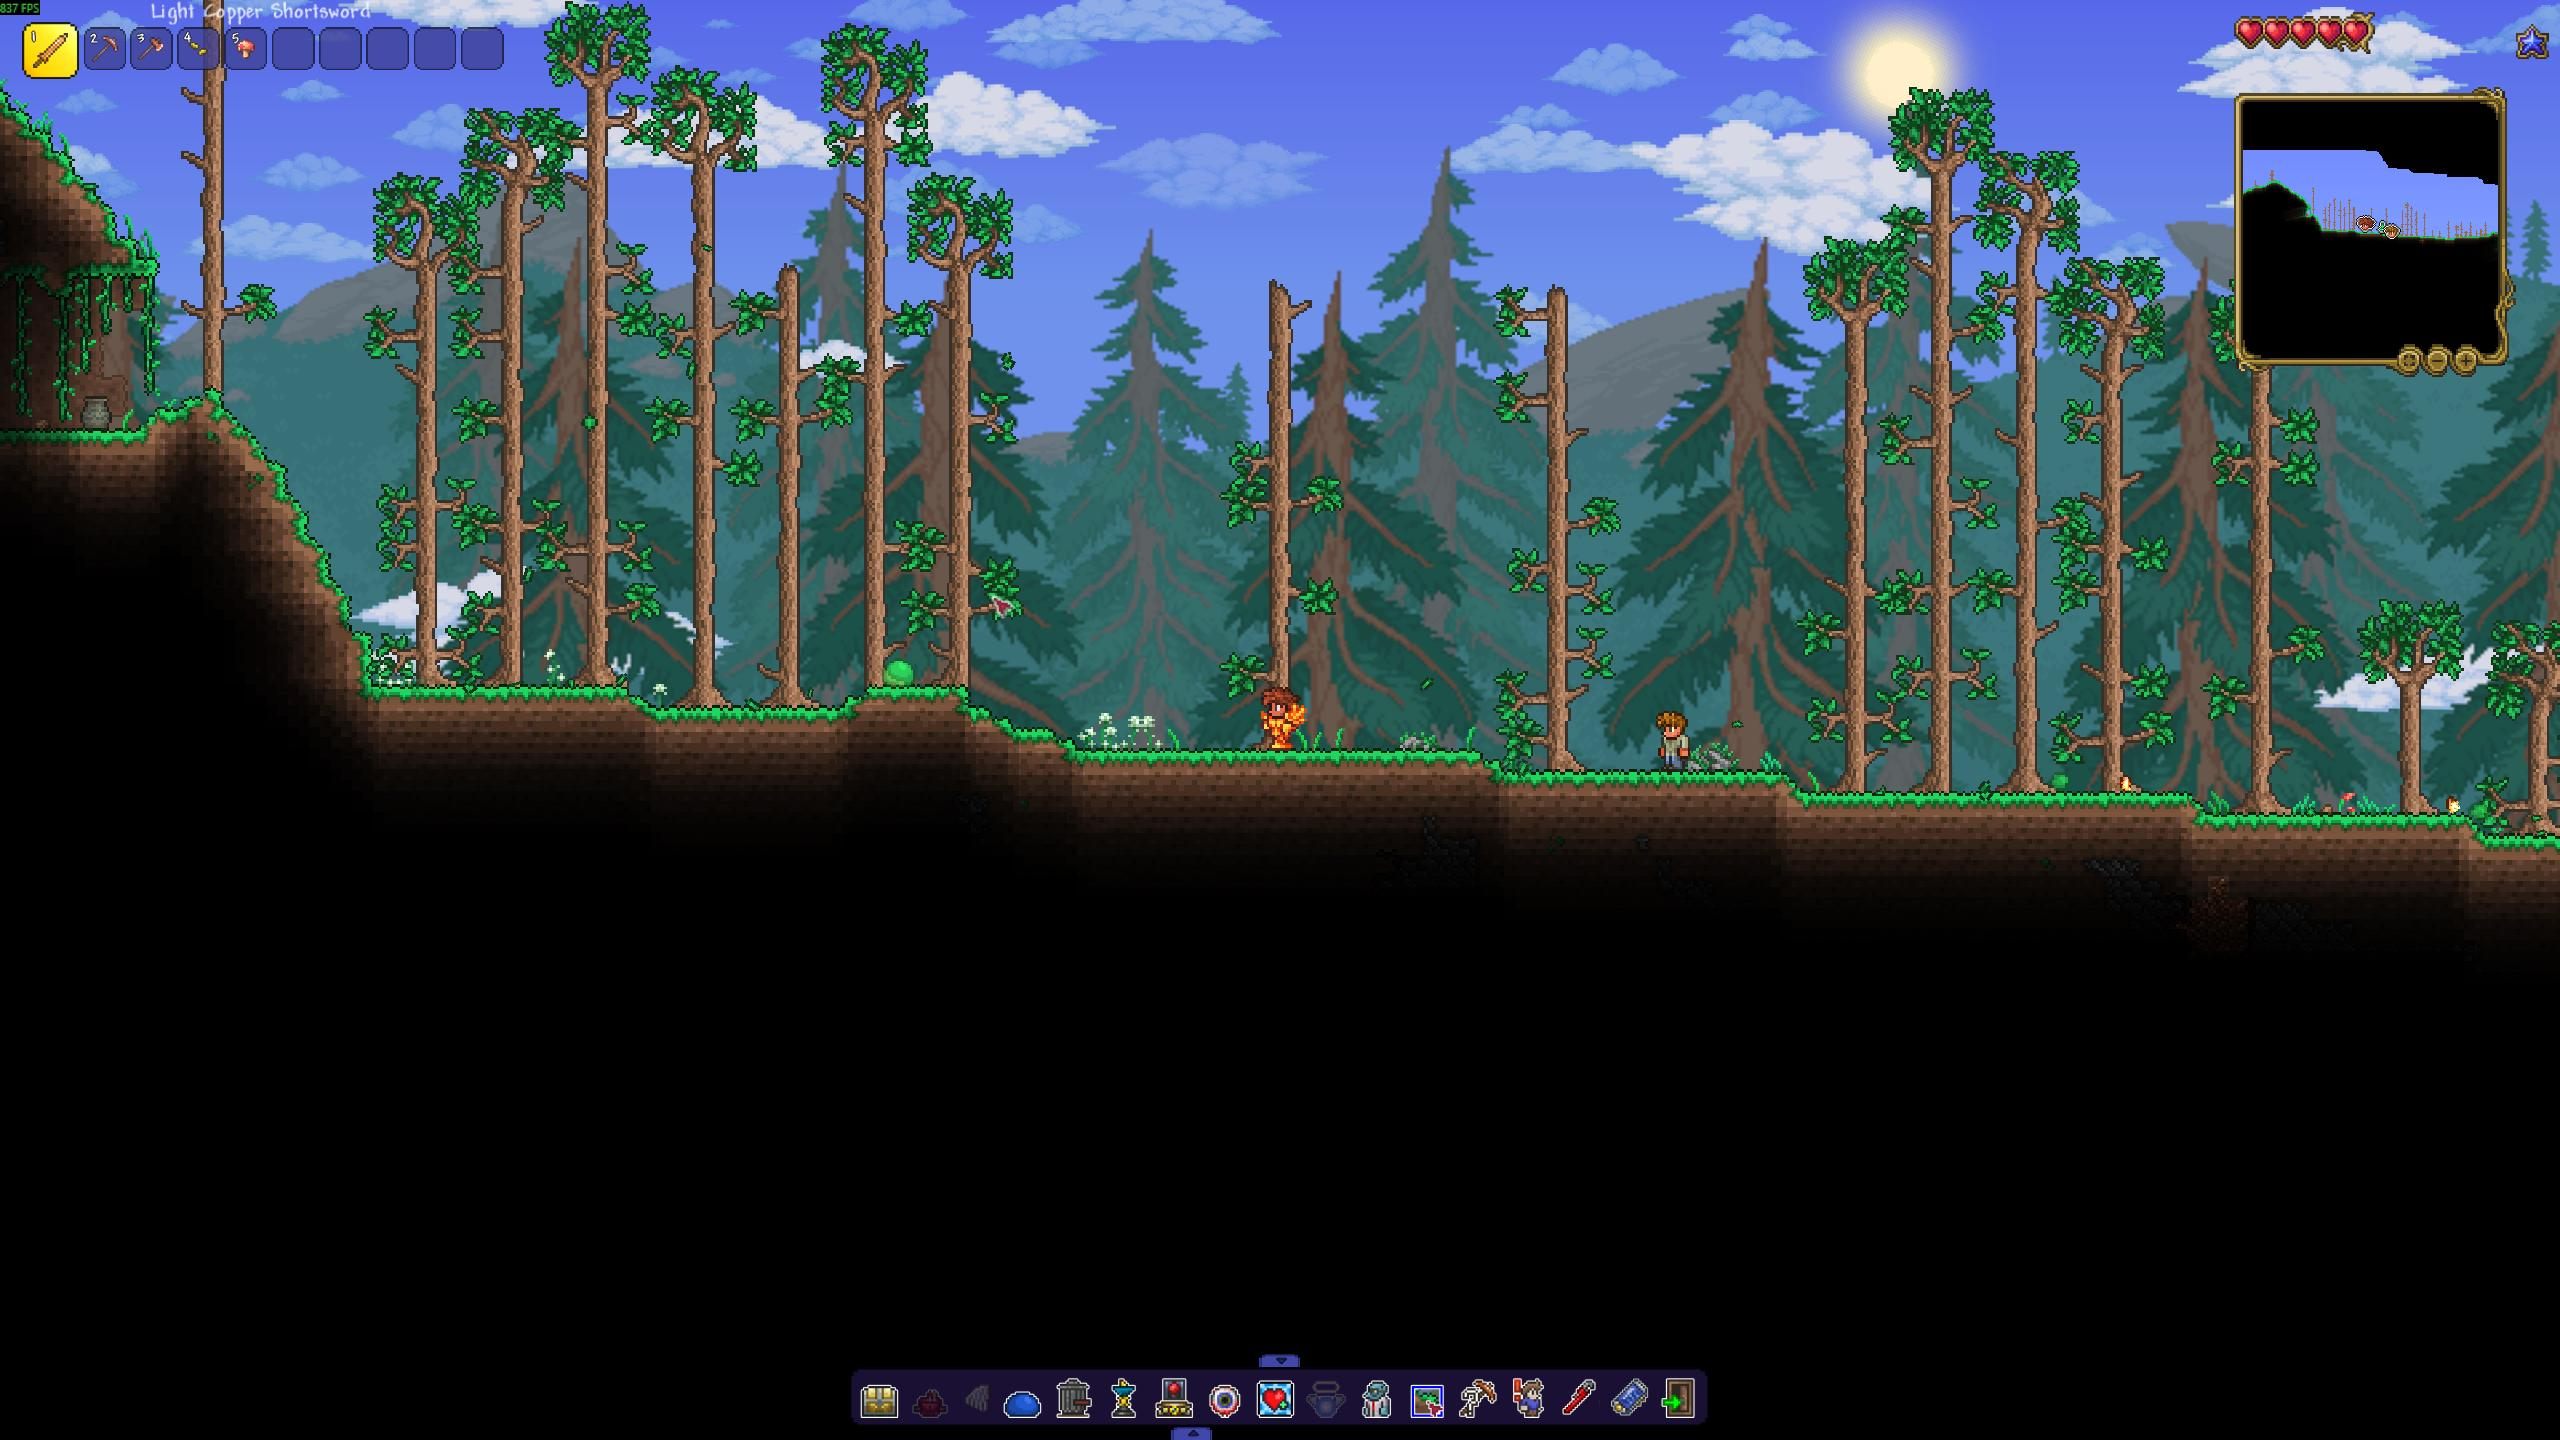Green Slime: (881, 661, 914, 686)
